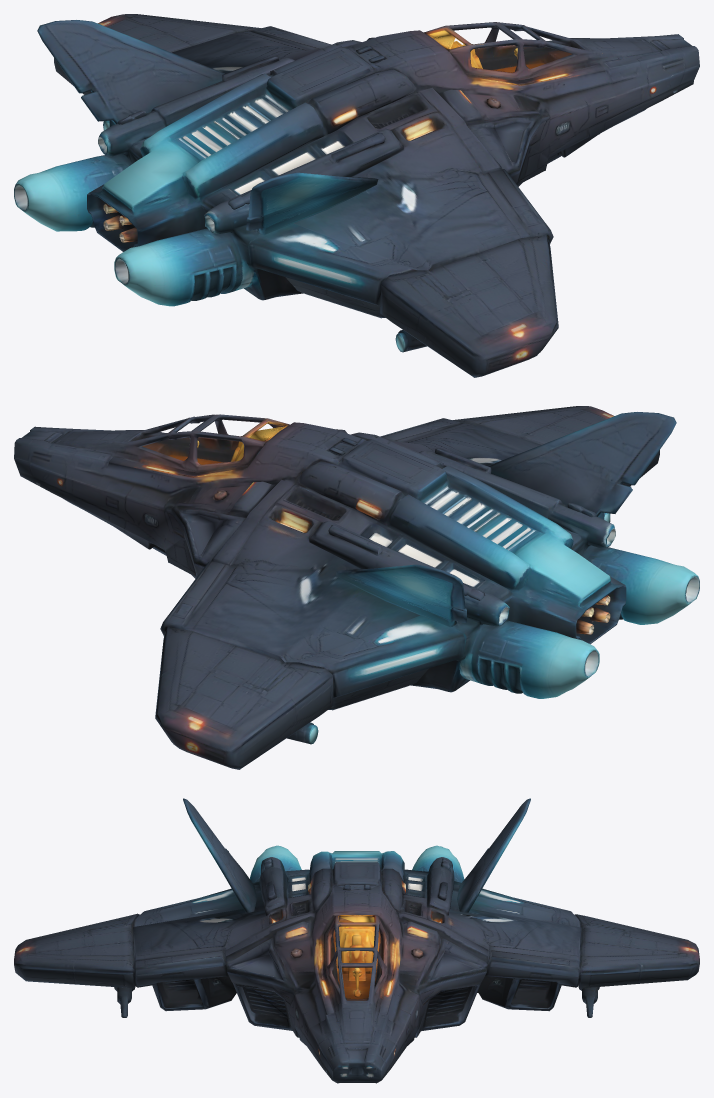
Rendered from nave.glb.
3 views of the same model, one above another, from view 1: azimuth 30°, elevation 25°; view 2: azimuth 150°, elevation 25°; view 3: azimuth 270°, elevation 25° (orthographic). The views are drawn at different scales.
Visible parts, largest first — view 1: tripo_node_af2257ae-8bc0-43bb-8e3c-e8110cc48d1f; view 2: tripo_node_af2257ae-8bc0-43bb-8e3c-e8110cc48d1f; view 3: tripo_node_af2257ae-8bc0-43bb-8e3c-e8110cc48d1f.
Part boxes in pixels (<box>): tripo_node_af2257ae-8bc0-43bb-8e3c-e8110cc48d1f: <box>14,14,699,377</box>; tripo_node_af2257ae-8bc0-43bb-8e3c-e8110cc48d1f: <box>14,406,699,769</box>; tripo_node_af2257ae-8bc0-43bb-8e3c-e8110cc48d1f: <box>14,798,699,1083</box>.
Size of the model in its own units: 76.22 by 20 by 92.07.
Materials: 1 (1 with a texture image).
